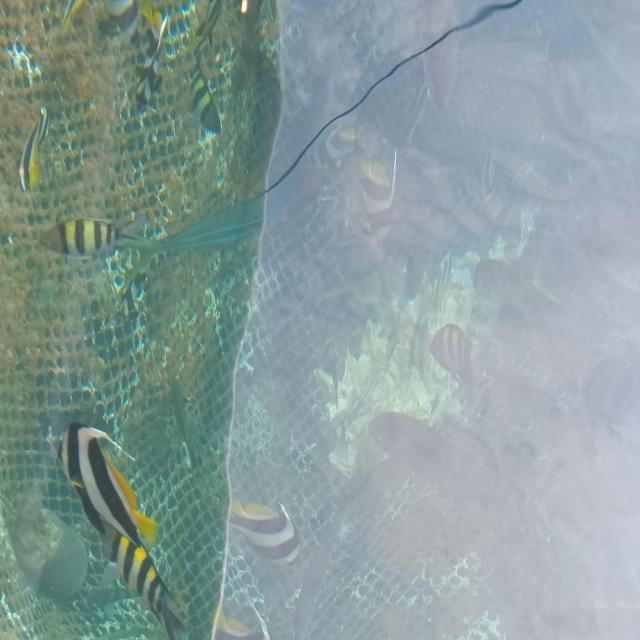ikan: (55, 420, 160, 553), (104, 525, 189, 639), (38, 212, 147, 261), (226, 497, 301, 565), (17, 106, 50, 192), (429, 322, 474, 383), (186, 62, 222, 136)
